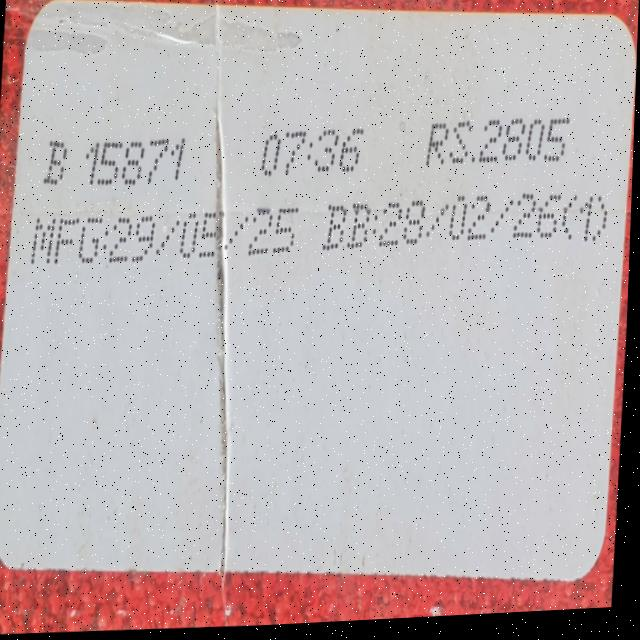BB: (316, 178, 623, 291)
Batch: (46, 121, 194, 203)
MFG: (25, 196, 309, 291)
RS: (419, 97, 577, 181)
TimeStamp: (252, 98, 374, 189)
